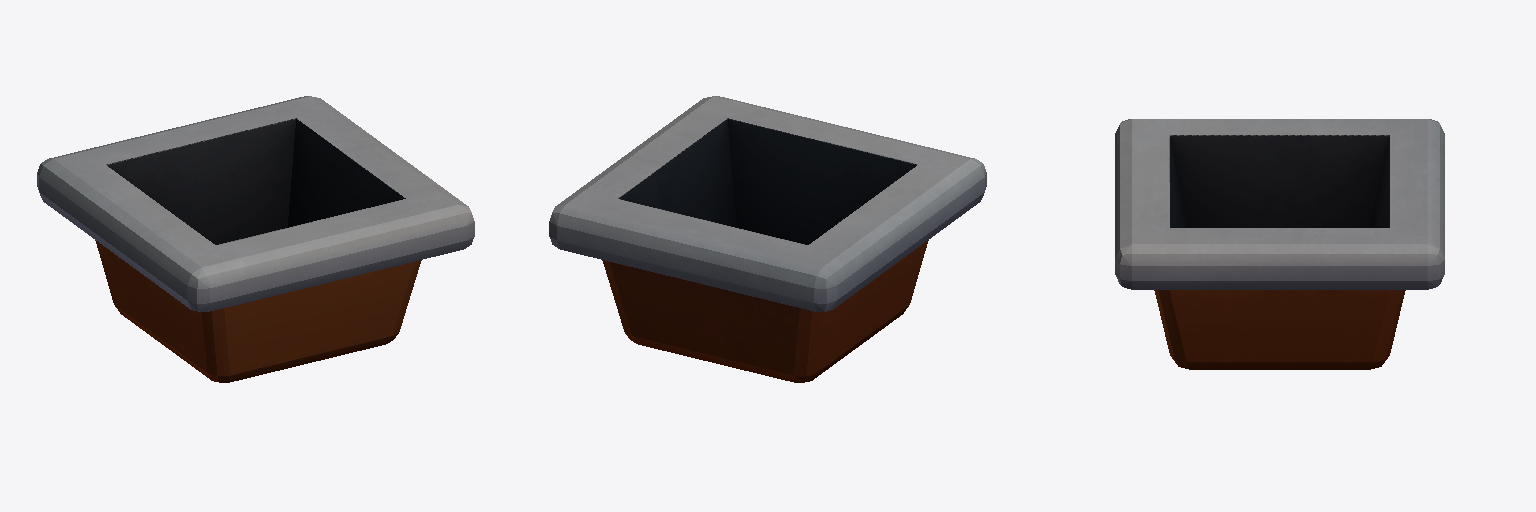
3 views of the same model, side by side, from view 1: azimuth 30°, elevation 25°; view 2: azimuth 150°, elevation 25°; view 3: azimuth 270°, elevation 25° (orthographic).
Parts seen in each view (by area): view 1: TrashCounter.Base; view 2: TrashCounter.Base; view 3: TrashCounter.Base.
Boxes of the visible parts, box(x1,y1,x2,y2) form: TrashCounter.Base: box(37, 96, 474, 382); TrashCounter.Base: box(549, 96, 986, 382); TrashCounter.Base: box(1115, 119, 1444, 369).
Size of the model in its own units: 1 by 0.4968 by 1.
Materials: 1 (1 with a texture image).